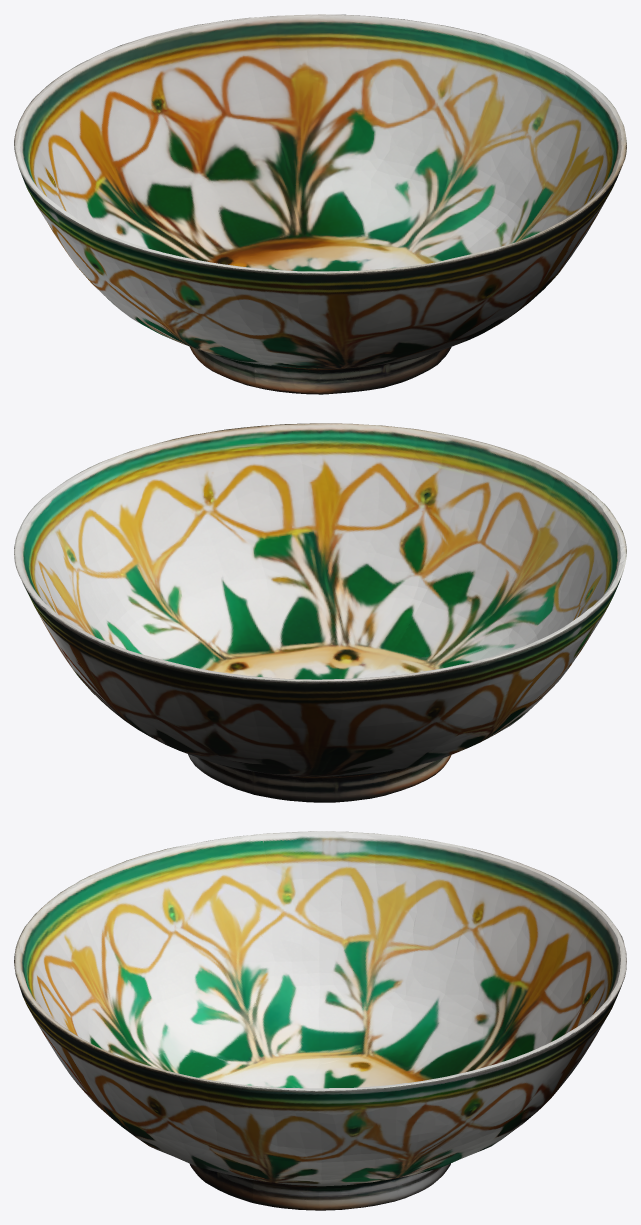
File: porcelain-pasta-bowl-art-deco.jpeg.glb
3 renders of one model, top to bottom at view 1: azimuth 30°, elevation 25°; view 2: azimuth 150°, elevation 25°; view 3: azimuth 270°, elevation 25°, orthographic.
Visible parts, largest first — view 1: world; view 2: world; view 3: world.
Boxes of the visible parts, bbox=[...] form: world: bbox=[14, 14, 626, 394]; world: bbox=[14, 423, 626, 802]; world: bbox=[14, 831, 626, 1210].
Bounding box in the file's own units: 0.9996 × 0.3528 × 1.
Materials: 1 (1 with a texture image).
